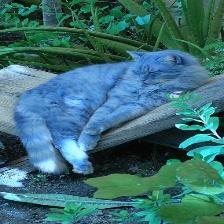kedo: (18, 51, 209, 173)
